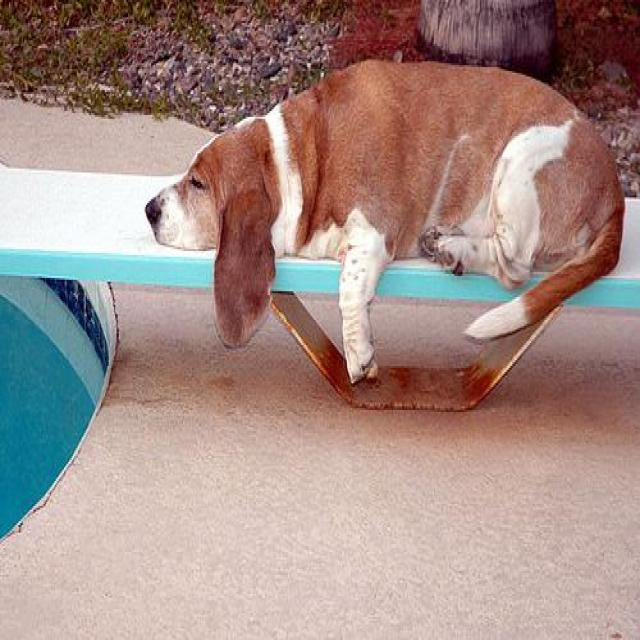relax: (155, 58, 636, 402)
